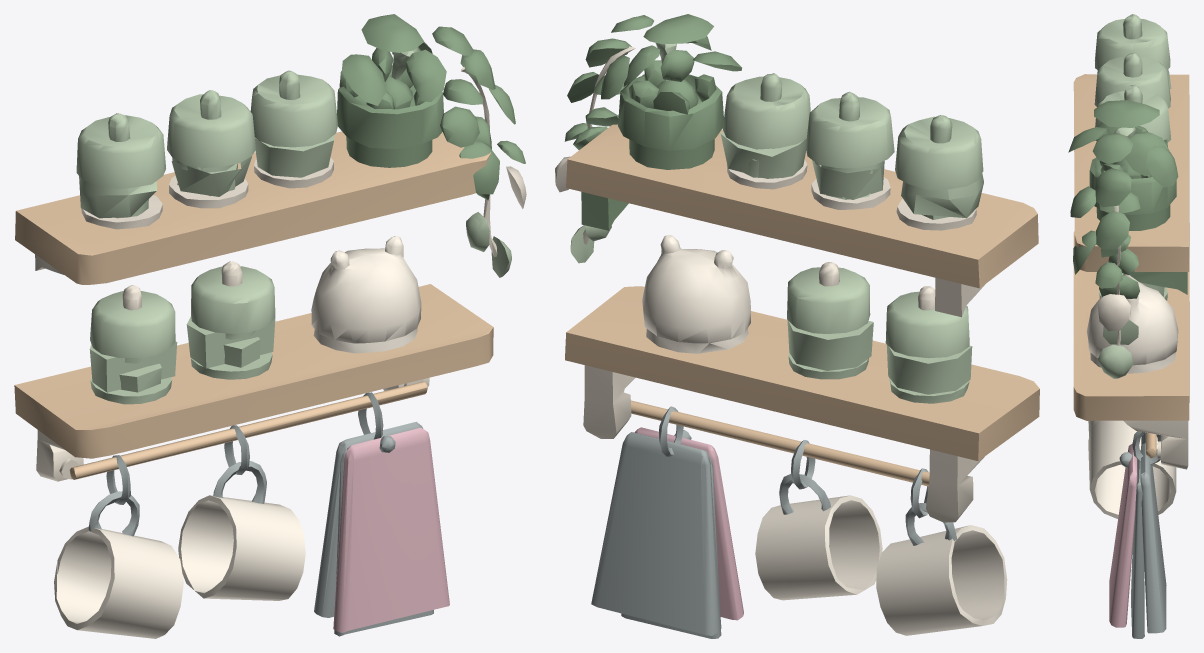
Rendered from kitchen_spice_shelf.glb.
The picture shows the model from 3 angles, left to right: view 1: azimuth 30°, elevation 25°; view 2: azimuth 150°, elevation 25°; view 3: azimuth 270°, elevation 25°; orthographic projection. The views are drawn at different scales.
Size of the model in its own units: 1.5 by 1.86 by 0.3976.
